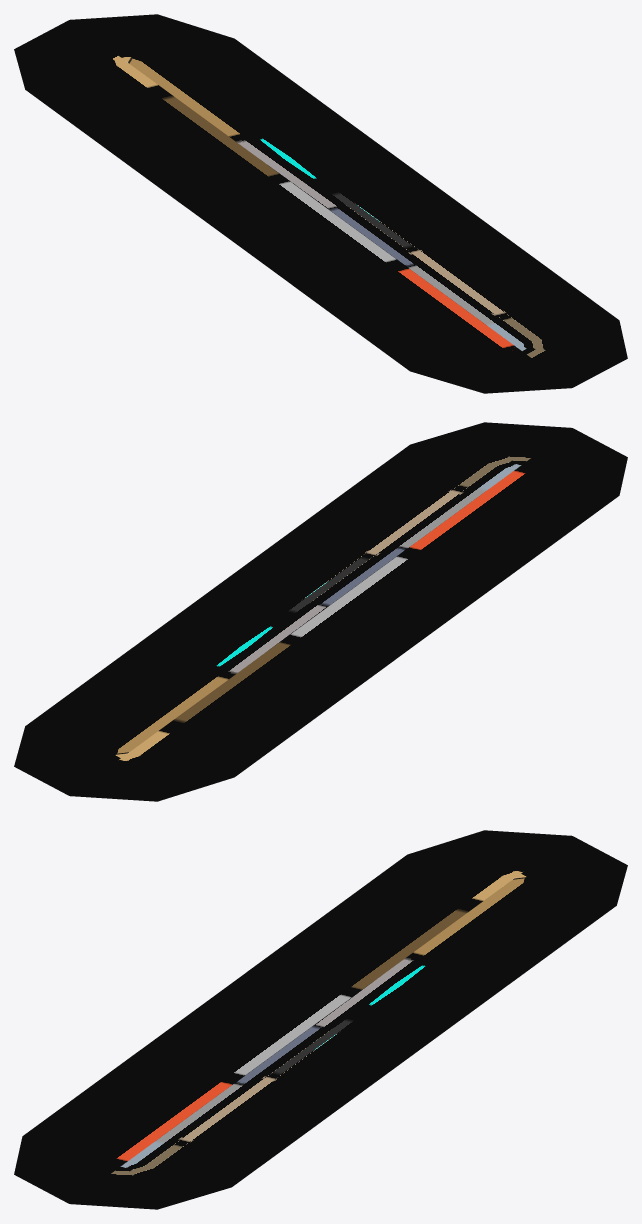
File: 瀑布波纹.fbx
3 views of the same model, one above another, from view 1: azimuth 30°, elevation 25°; view 2: azimuth 150°, elevation 25°; view 3: azimuth 330°, elevation 25° (orthographic).
Visible parts, largest first — view 1: Plane.116; view 2: Plane.116; view 3: Plane.116.
Boxes of the visible parts, x1,y1,x2,y2 form: Plane.116: [14, 14, 627, 393]; Plane.116: [14, 422, 627, 801]; Plane.116: [14, 830, 627, 1209].
Bounding box in the file's own units: 440 × 0.000298 × 1830.
